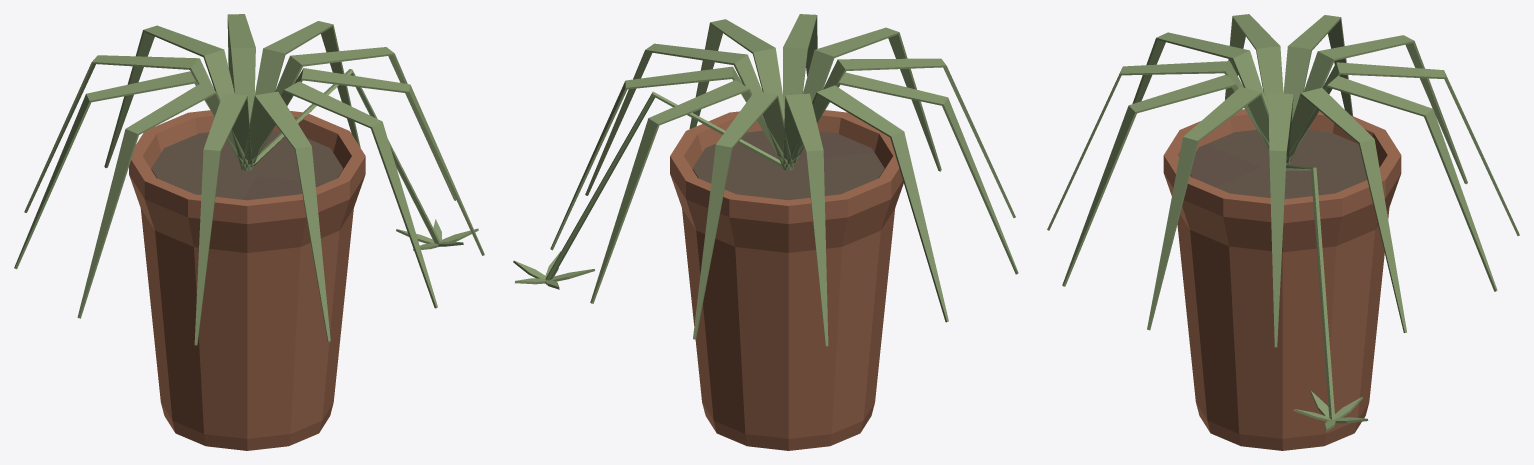
The model's file is spider.glb.
3 renders of one model, left to right at view 1: azimuth 30°, elevation 25°; view 2: azimuth 150°, elevation 25°; view 3: azimuth 270°, elevation 25°, orthographic.
Parts seen in each view (by area): view 1: spider/review-terra-vessel, spider/review-rooted-soil, spider/arching-leaf-007, spider/arching-leaf-006, spider/arching-leaf-005, spider/arching-leaf-008, spider/arching-leaf-002, spider/arching-leaf-011, spider/arching-leaf-004, spider/arching-leaf-009, spider/arching-leaf-003, spider/arching-leaf-010 (+2 smaller); view 2: spider/review-terra-vessel, spider/review-rooted-soil, spider/arching-leaf-002, spider/arching-leaf-003, spider/arching-leaf-004, spider/arching-leaf-001, spider/arching-leaf-007, spider/arching-leaf-005, spider/arching-leaf-009, spider/arching-leaf-010, spider/arching-leaf-011, spider/arching-leaf-008 (+2 smaller); view 3: spider/review-terra-vessel, spider/review-rooted-soil, spider/arching-leaf-011, spider/arching-leaf-009, spider/arching-leaf-010, spider/arching-leaf-001, spider/arching-leaf-008, spider/arching-leaf-003, spider/arching-leaf-004, spider/arching-leaf-005, spider/arching-leaf-006, spider/arching-leaf-002 (+2 smaller).
Part boxes in pixels (x1,y1,x2,y2): spider/review-terra-vessel: [129, 110, 365, 450]; spider/review-rooted-soil: [151, 131, 343, 200]; spider/arching-leaf-007: [242, 91, 330, 341]; spider/arching-leaf-006: [194, 93, 252, 345]; spider/arching-leaf-005: [77, 84, 251, 318]; spider/arching-leaf-008: [243, 81, 437, 308]; spider/arching-leaf-002: [104, 25, 242, 169]; spider/arching-leaf-011: [252, 21, 360, 169]; spider/arching-leaf-004: [14, 71, 248, 269]; spider/arching-leaf-009: [246, 68, 484, 255]; spider/arching-leaf-003: [24, 55, 245, 212]; spider/arching-leaf-010: [249, 47, 456, 200]; spider/review-terra-vessel: [670, 110, 903, 450]; spider/review-rooted-soil: [692, 130, 884, 200]; spider/arching-leaf-002: [693, 91, 793, 339]; spider/arching-leaf-003: [783, 93, 828, 346]; spider/arching-leaf-004: [785, 85, 948, 322]; spider/arching-leaf-001: [590, 80, 792, 303]; spider/arching-leaf-007: [792, 27, 941, 171]; spider/arching-leaf-005: [786, 72, 1018, 274]; spider/arching-leaf-009: [689, 19, 784, 168]; spider/arching-leaf-010: [585, 43, 786, 195]; spider/arching-leaf-011: [550, 66, 789, 250]; spider/arching-leaf-008: [783, 14, 817, 113]; spider/review-terra-vessel: [1163, 109, 1401, 450]; spider/review-rooted-soil: [1190, 129, 1367, 199]; spider/arching-leaf-011: [1287, 87, 1406, 332]; spider/arching-leaf-009: [1147, 87, 1269, 330]; spider/arching-leaf-010: [1268, 93, 1293, 347]; spider/arching-leaf-001: [1286, 76, 1497, 291]; spider/arching-leaf-008: [1062, 74, 1269, 286]; spider/arching-leaf-003: [1288, 35, 1467, 184]; spider/arching-leaf-004: [1283, 15, 1352, 120]; spider/arching-leaf-005: [1225, 14, 1283, 110]; spider/arching-leaf-006: [1132, 32, 1268, 112]; spider/arching-leaf-002: [1286, 62, 1519, 235].
Bounding box in the file's own units: 0.4195 × 0.3049 × 0.3781.
Materials: 3 (3 with a texture image).
